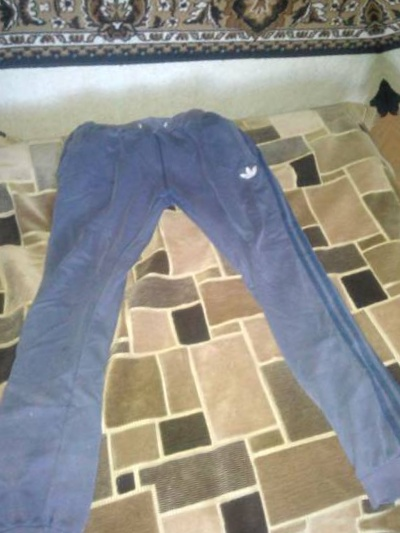Pants: (0, 41, 400, 533), (382, 0, 400, 493), (0, 108, 4, 533), (49, 532, 400, 533)
